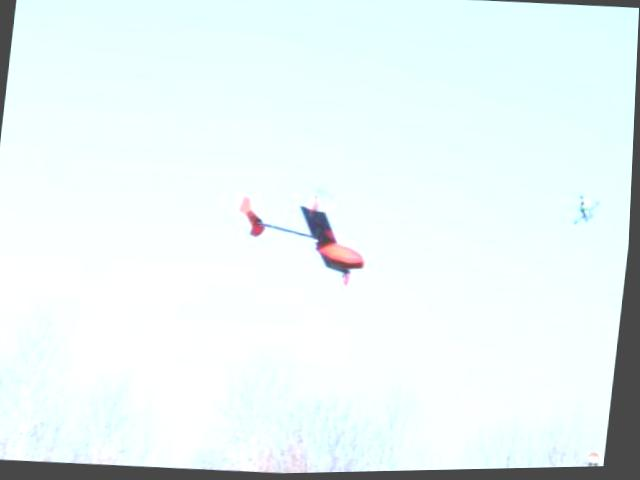uav: (225, 177, 381, 299)
